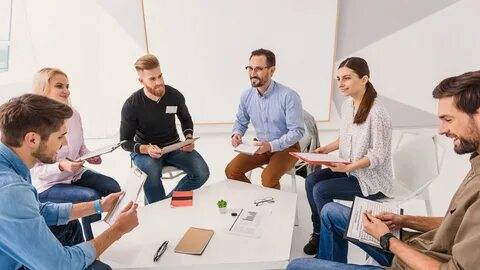awake: (396, 68, 479, 270), (1, 93, 83, 270), (119, 53, 210, 199), (310, 55, 393, 201), (32, 67, 115, 201), (224, 47, 306, 180)
